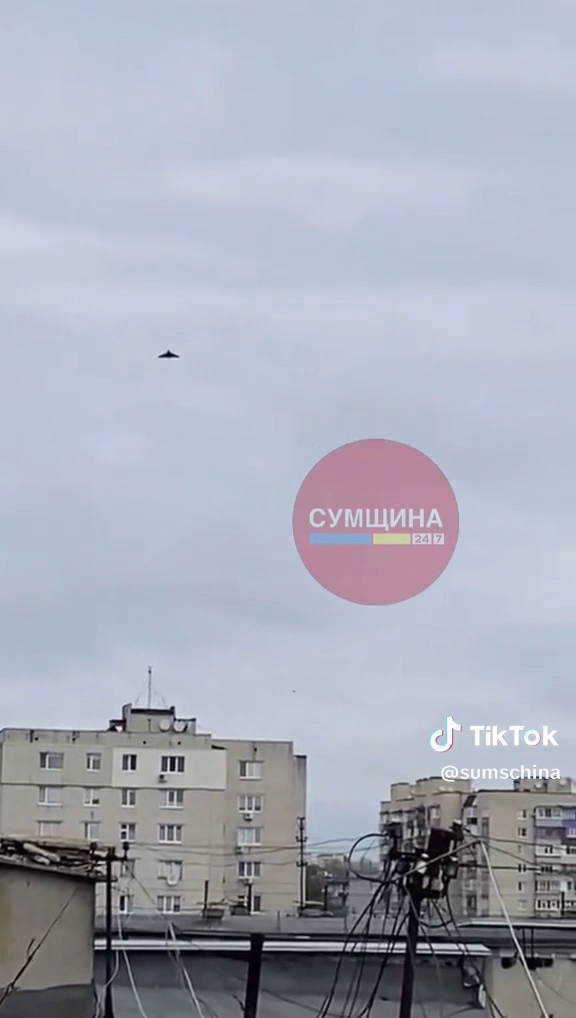shahed: (145, 340, 191, 369)
